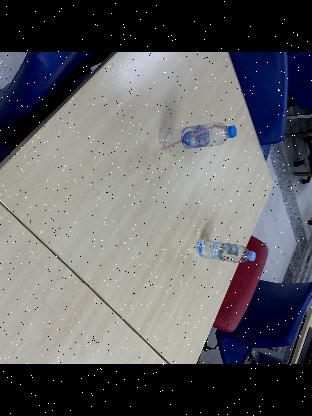Plastic Bottle: (157, 122, 237, 154), (194, 239, 256, 263)
